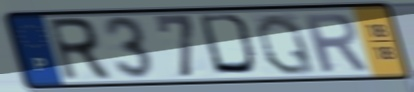3: (106, 14, 154, 83)
7: (151, 13, 199, 81)
D: (195, 12, 262, 78)
Q: (254, 11, 319, 77)
R: (44, 16, 115, 84), (299, 11, 371, 75)
